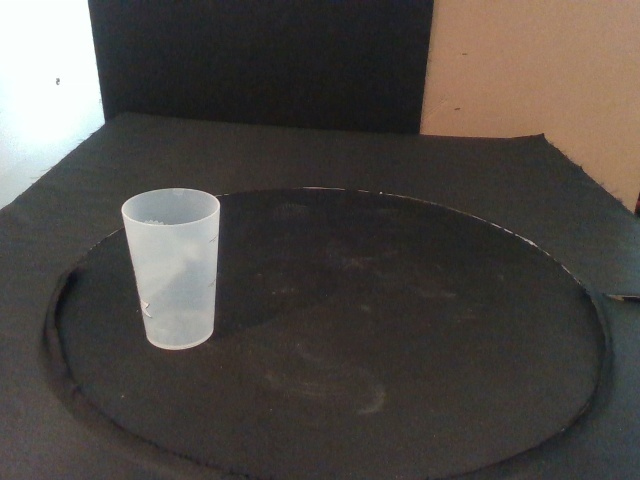glass: (120, 188, 221, 351)
